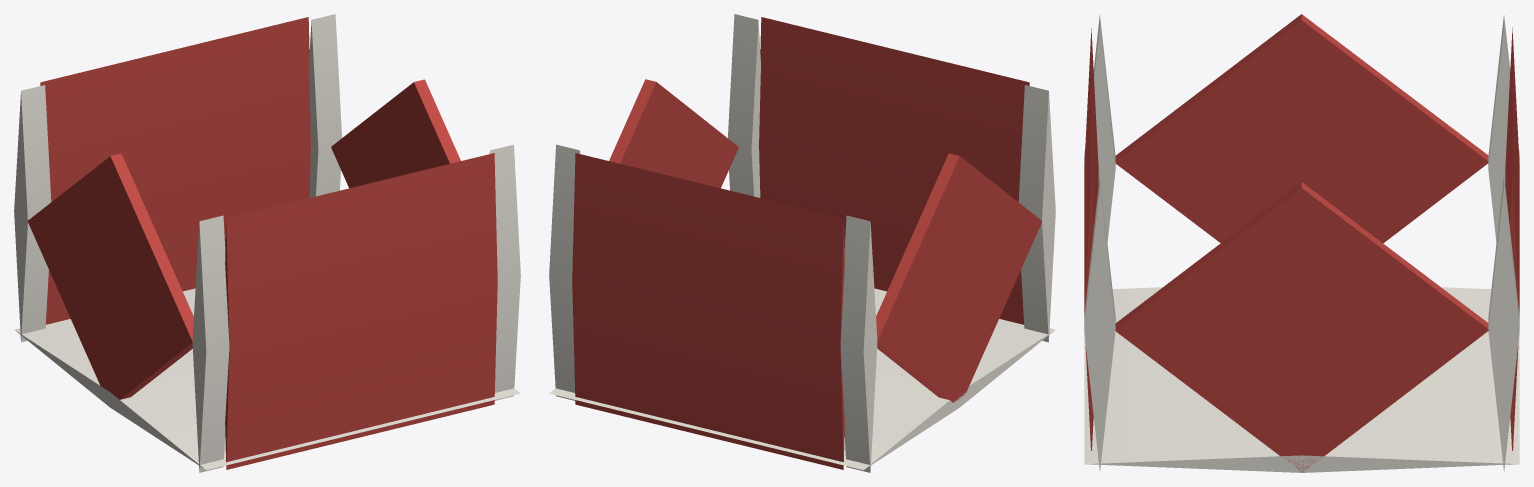
The model's file is crate_lod2.glb.
3 renders of one model, left to right at view 1: azimuth 30°, elevation 25°; view 2: azimuth 150°, elevation 25°; view 3: azimuth 270°, elevation 25°, orthographic. The views are drawn at different scales.
Visible parts, largest first — view 1: crate_lod2; view 2: crate_lod2; view 3: crate_lod2.
Part boxes in pixels (x1,y1,x2,y2): crate_lod2: (14, 14, 520, 472); crate_lod2: (549, 14, 1055, 472); crate_lod2: (1084, 14, 1519, 472).
Size of the model in its own units: 0.34 by 0.26 by 0.36.
